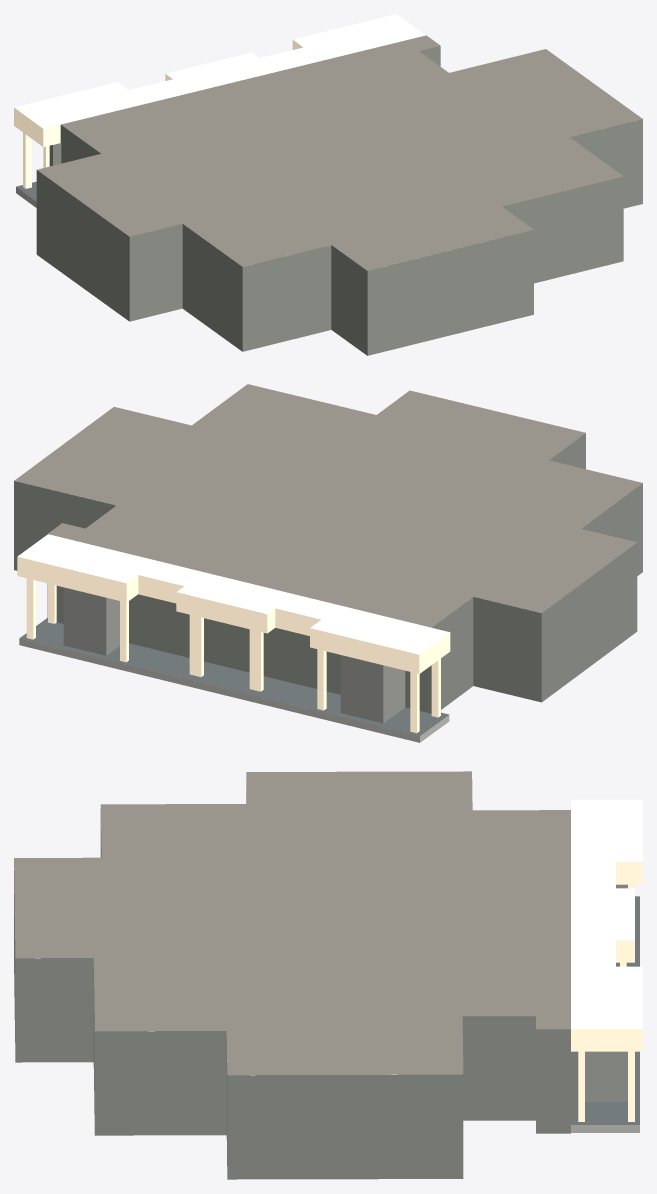
The model's file is army_museum_far.glb.
The picture shows the model from 3 angles, top to bottom: view 1: azimuth 30°, elevation 25°; view 2: azimuth 150°, elevation 25°; view 3: azimuth 270°, elevation 25°; orthographic projection. The views are drawn at different scales.
Parts seen in each view (by area): view 1: m_roof_flat, m_wall_grey, m_cream_stone; view 2: m_roof_flat, m_wall_grey, m_cream_stone, m_block_grey, m_granite_grey, m_plinth_white; view 3: m_roof_flat, m_wall_grey, m_cream_stone, m_block_grey, m_granite_grey.
Boxes of the visible parts, x1,y1,x2,y2 form: m_roof_flat: (37,35,642,270); m_wall_grey: (36,46,642,355); m_cream_stone: (14,14,425,188); m_roof_flat: (14,384,642,627); m_wall_grey: (14,433,642,713); m_cream_stone: (17,534,450,733); m_block_grey: (63,587,405,723); m_granite_grey: (19,617,448,735); m_plinth_white: (19,638,449,742); m_roof_flat: (14,771,570,1075); m_wall_grey: (14,789,578,1179); m_cream_stone: (571,799,642,1121); m_block_grey: (585,884,627,1101); m_granite_grey: (571,896,639,1124).
Bounding box in the file's own units: 74.94 × 12 × 65.59.
